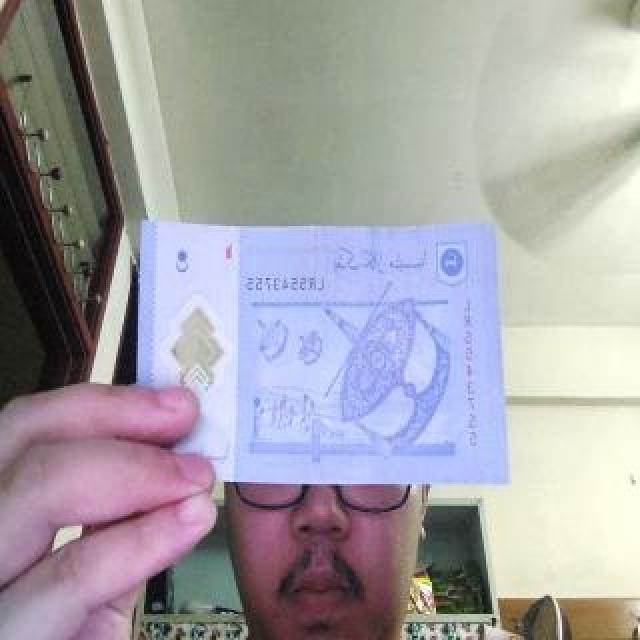1 Ringgit: (128, 216, 518, 493)
